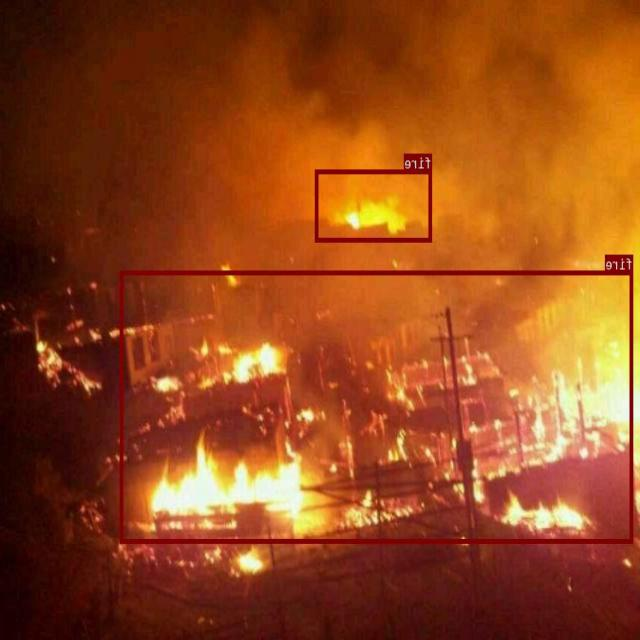fire: (121, 270, 633, 542), (316, 169, 432, 241)
